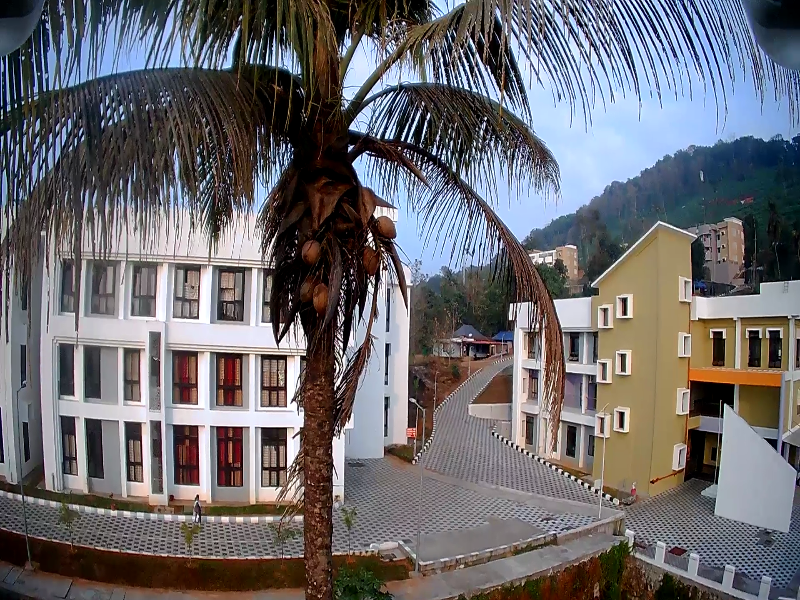coconut: (306, 280, 328, 309), (375, 216, 398, 240), (295, 239, 319, 262), (361, 247, 378, 271), (296, 278, 312, 302)
